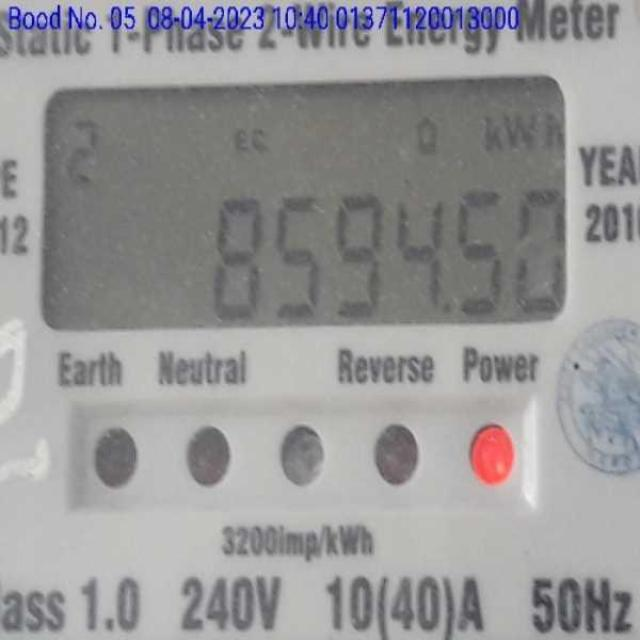0: (515, 184, 564, 312)
4: (393, 193, 448, 314)
5: (274, 189, 332, 321), (460, 186, 503, 314)
8: (211, 193, 267, 324)
9: (332, 190, 389, 319)
Digital meter: (52, 90, 566, 326)
point: (439, 291, 459, 317)
